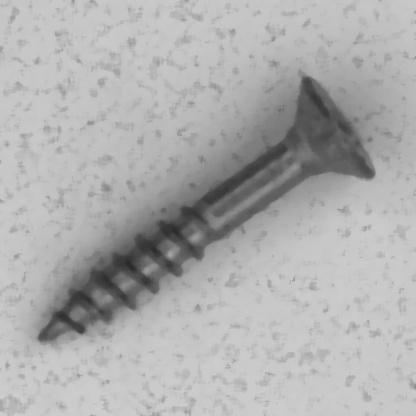metal: (36, 73, 376, 342)
